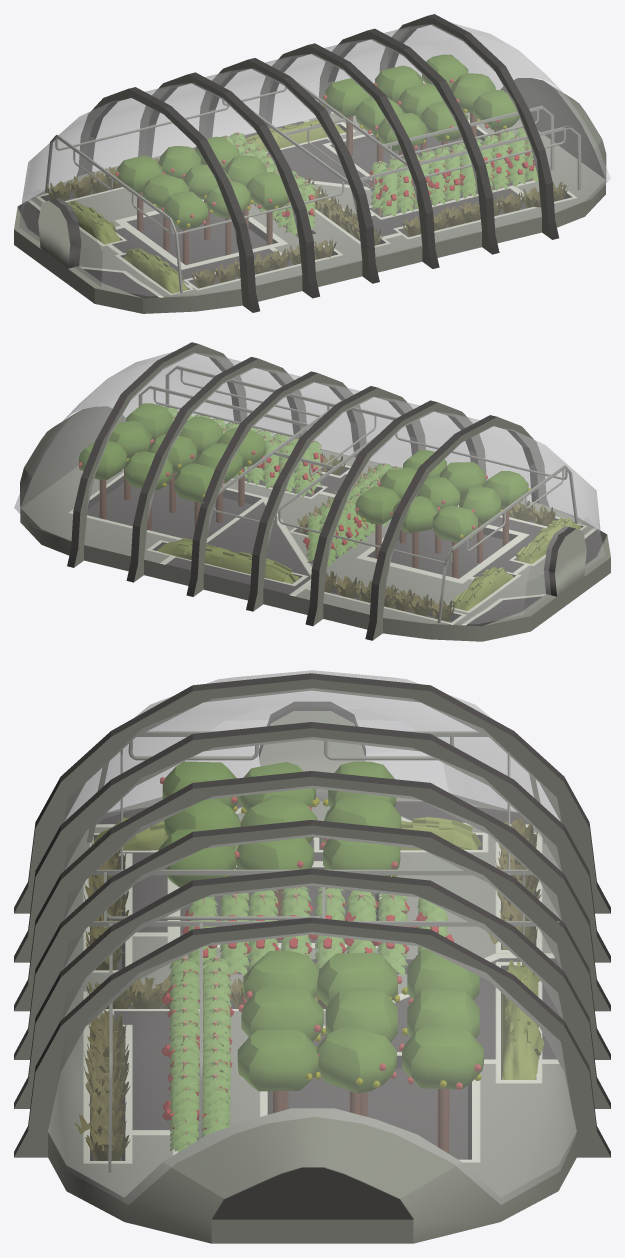
Rendered from houseand glass.fbx.
The picture shows the model from 3 angles, top to bottom: view 1: azimuth 30°, elevation 25°; view 2: azimuth 150°, elevation 25°; view 3: azimuth 270°, elevation 25°; orthographic projection. The views are drawn at different scales.
Parts seen in each view (by area): view 1: resourbuildes_and:resourbuildes_and:resourbuildes_and:resour, resourbuildes_and:resourbuildes_and:pPlane720; view 2: resourbuildes_and:resourbuildes_and:resourbuildes_and:resour, resourbuildes_and:resourbuildes_and:pPlane720; view 3: resourbuildes_and:resourbuildes_and:resourbuildes_and:resour, resourbuildes_and:resourbuildes_and:pPlane720.
Boxes of the visible parts, left/top/right/bottom form: resourbuildes_and:resourbuildes_and:resourbuildes_and:resour: left=14, top=14, right=606, bottom=313; resourbuildes_and:resourbuildes_and:pPlane720: left=19, top=23, right=610, bottom=296; resourbuildes_and:resourbuildes_and:resourbuildes_and:resour: left=20, top=342, right=610, bottom=641; resourbuildes_and:resourbuildes_and:pPlane720: left=14, top=352, right=604, bottom=623; resourbuildes_and:resourbuildes_and:resourbuildes_and:resour: left=14, top=673, right=610, bottom=1243; resourbuildes_and:resourbuildes_and:pPlane720: left=50, top=670, right=575, bottom=1204.
Size of the model in its own units: 55.4 by 14.21 by 32.82.
